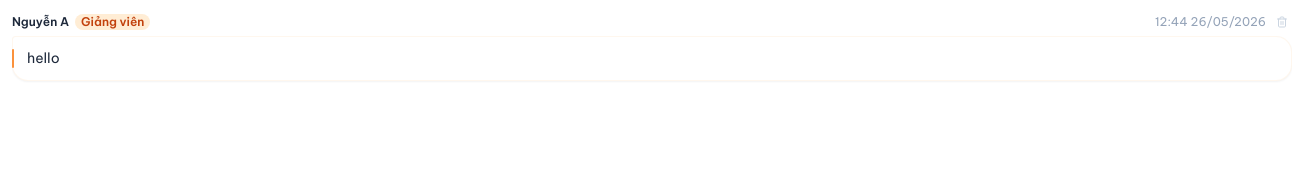
Test: ChatMessage › shows inline confirm on Trash2 click; Giữ lại cancels; Xoá calls deleteMessage
Later steps or results of the test are not shown.
Click the trash button to trigger confirm
Click the button named "Xoá tin nhắn".
click(1282, 22)  # box [1272,12,1292,32]
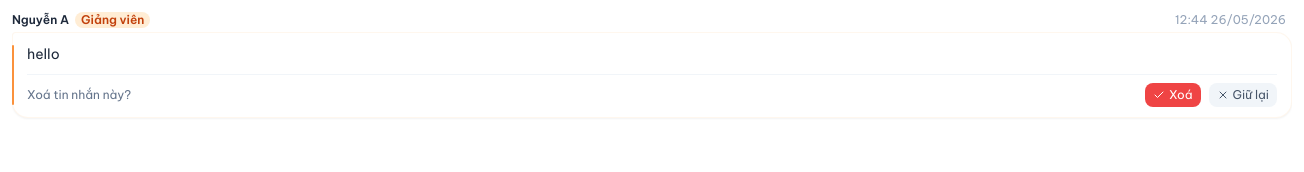
expect the text "Xoá tin nhắn này?" is shown: met, box [27,87,131,102]
expect the button "Xoá" is shown: met, box [1145,83,1200,107]
expect the button "Giữ lại" is shown: met
Click "Giữ lại" — cancels
Click the button "Giữ lại".
click(1243, 95)  # box [1208,83,1277,107]
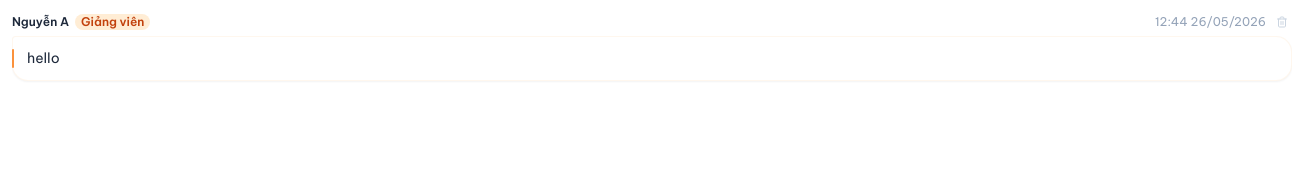
expect the text "Xoá tin nhắn này?" is gone: met
